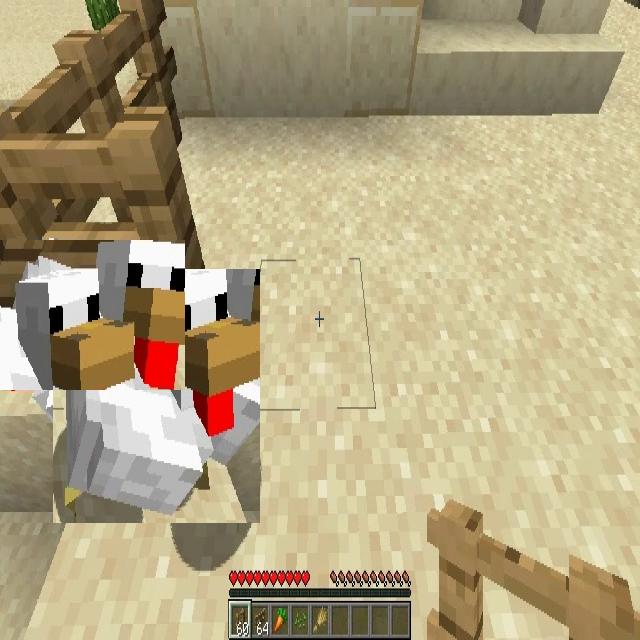duck: (53, 270, 260, 524), (0, 240, 185, 390)
